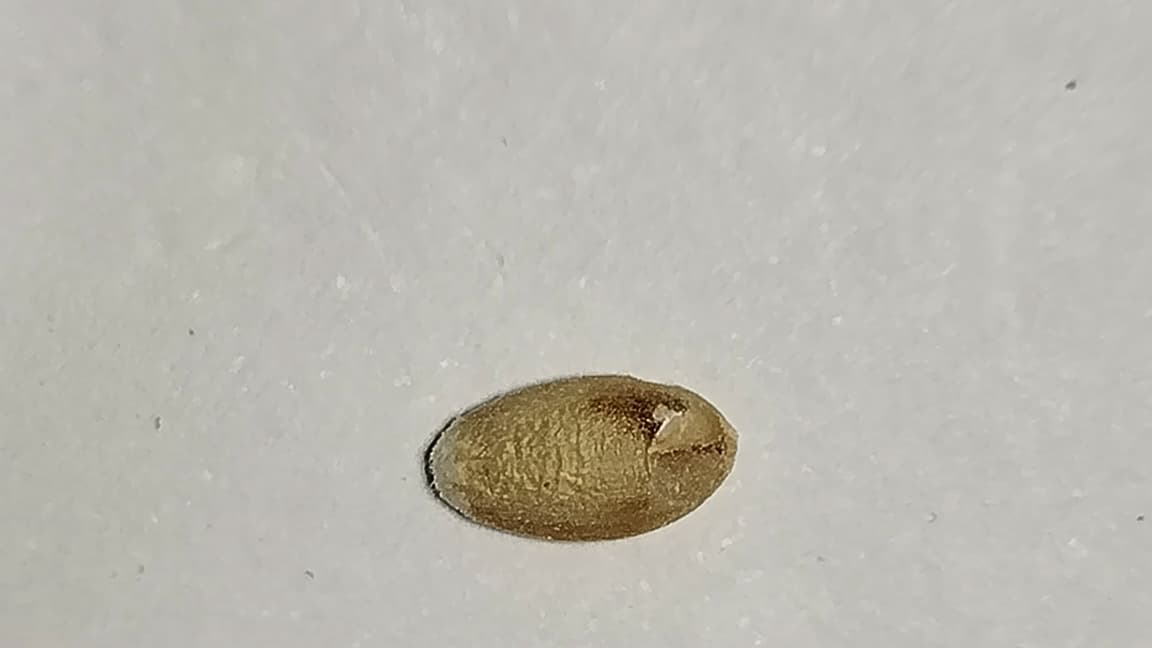damage: (421, 373, 738, 546)
insectdamage: (656, 389, 723, 453)
staindamage: (589, 381, 667, 433)
